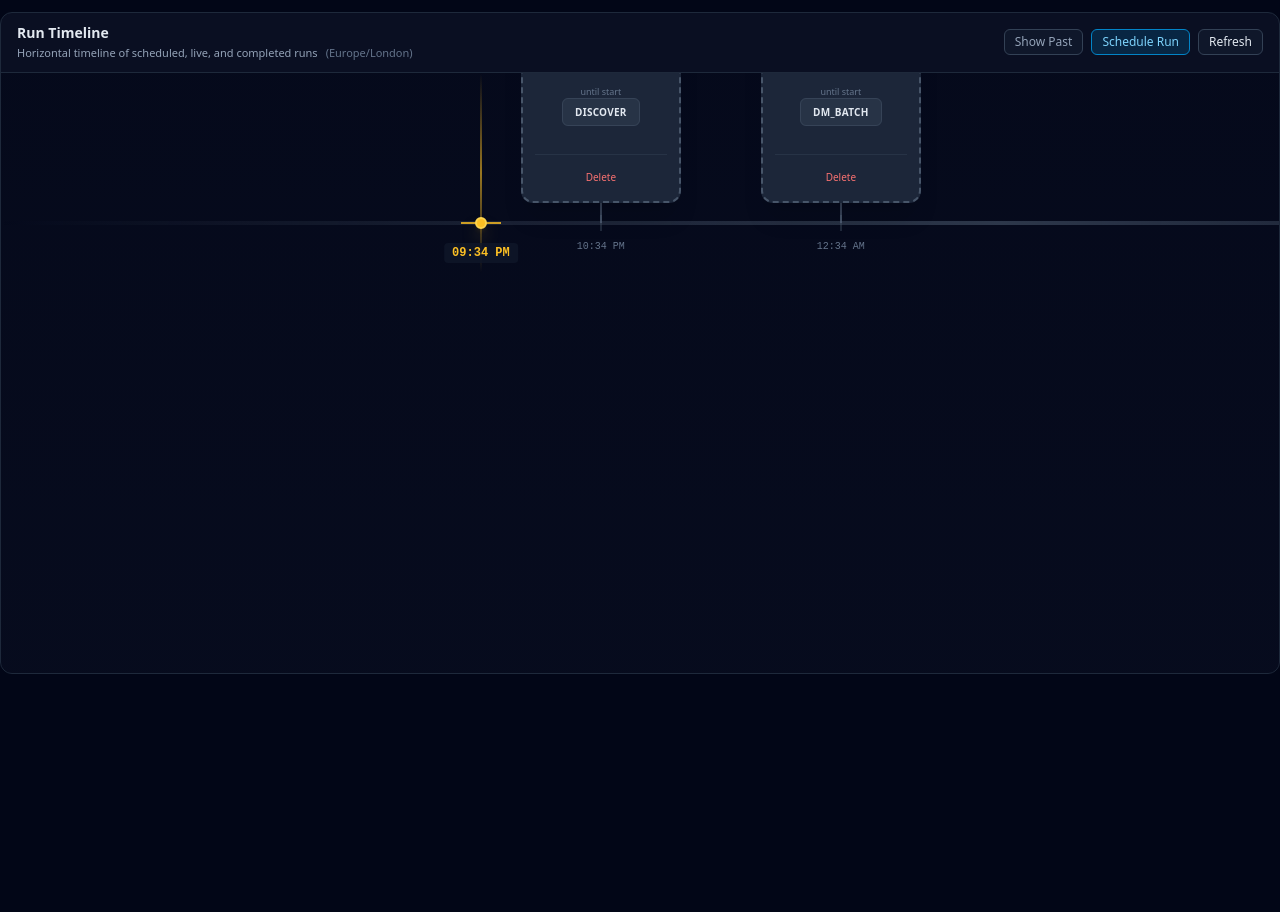
Test: TimelineCarousel › Show Past Toggle › toggles button text between Show Past and Hide Past
Click the button "Show Past": coordinates (1044, 42) [1004,29,1083,55]
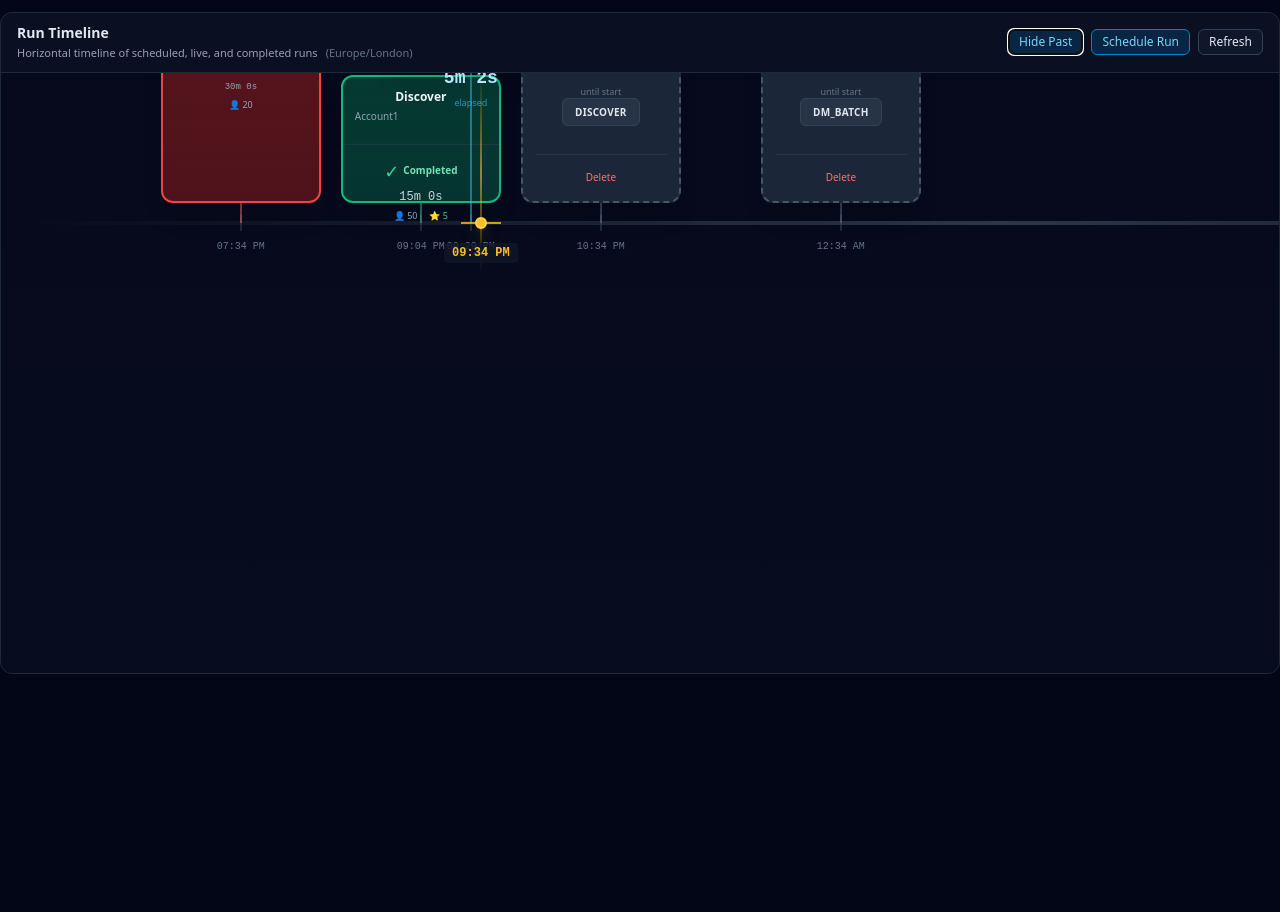
Expected: the button "Hide Past" is shown
Click the button "Hide Past": coordinates (1046, 42) [1008,29,1083,55]
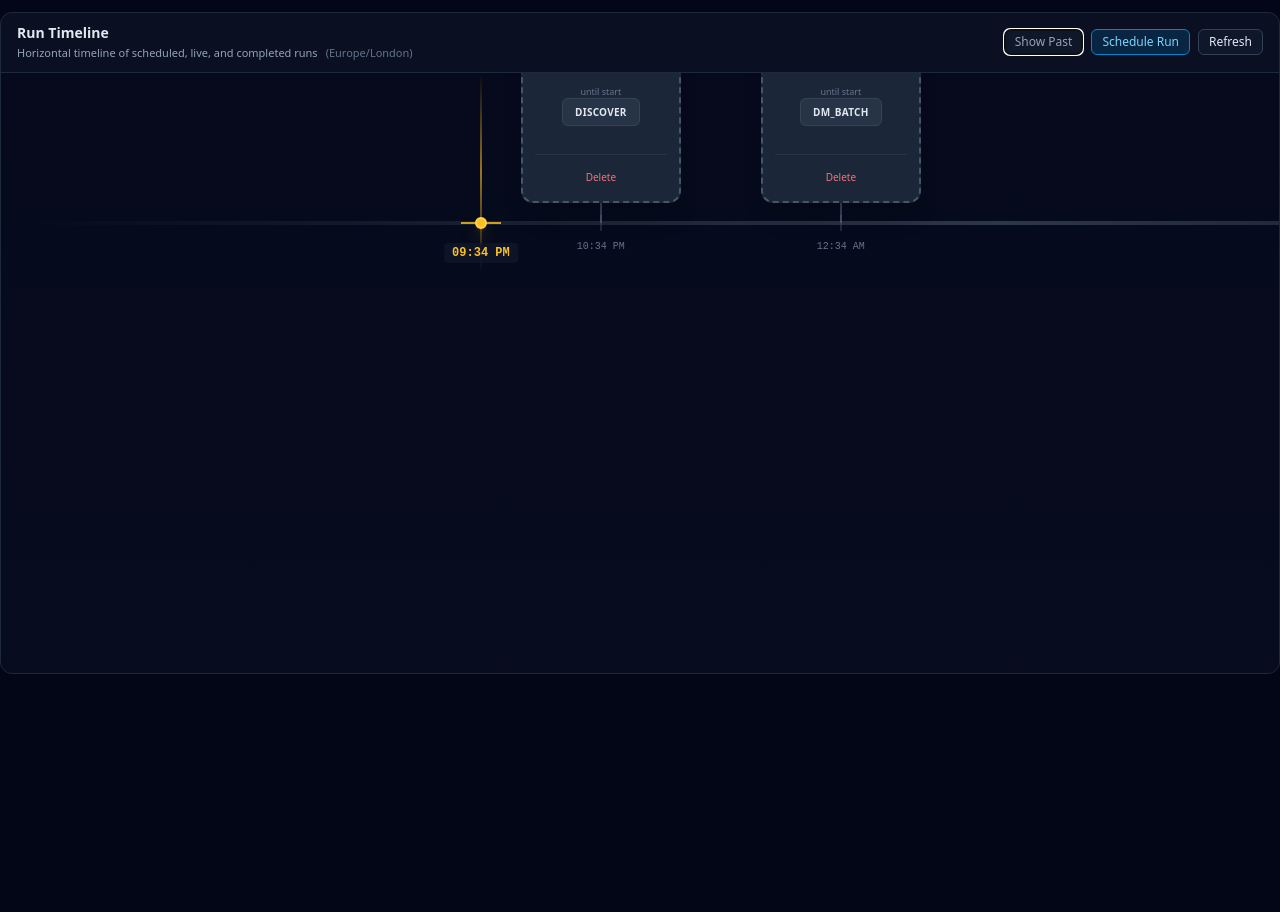
Expected: the button "Show Past" is shown, [1004,29,1083,55]
